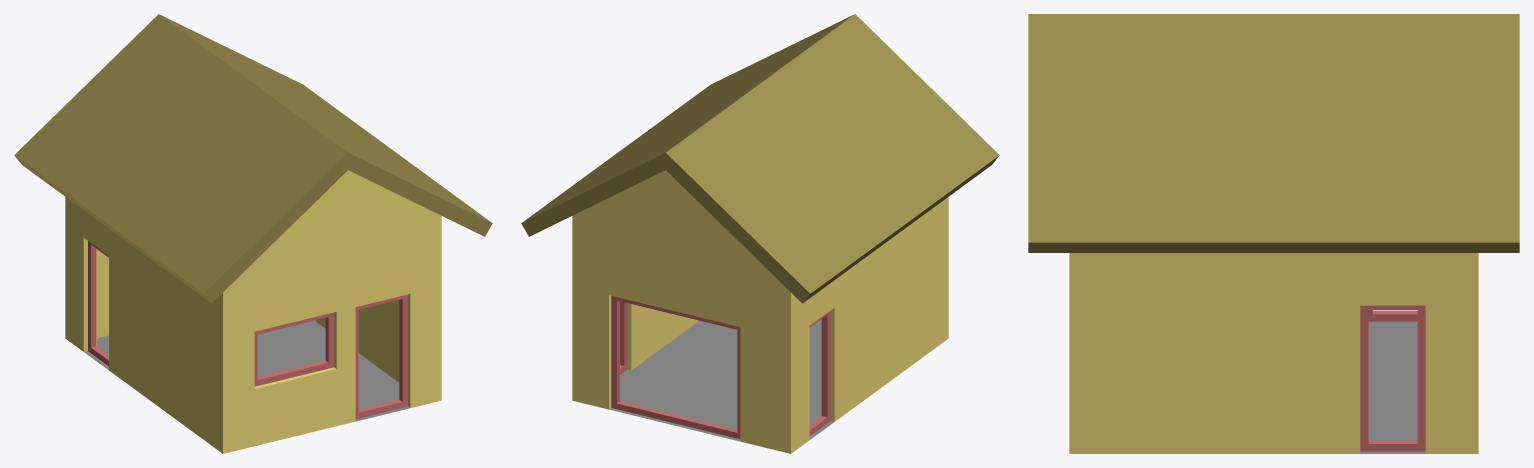
Rendered from result.glb.
3 views of the same model, side by side, from view 1: azimuth 30°, elevation 25°; view 2: azimuth 150°, elevation 25°; view 3: azimuth 270°, elevation 25° (orthographic). The views are drawn at different scales.
Visible parts, largest first — view 1: 2499a4e7-243e-4563-b6c1-ed26f3a98a3a__undefined, 1ef0c851-08d2-4ab4-b3e1-274aac94b57e__undefined (×2), e75f428d-a81e-416e-aa68-c2f7c63bd56b__Plane_6, cf446bc5-4601-47e0-9e80-296ae3b57e2c__Box, 2e7a3f53-5e66-4871-9fd2-a7b030fb69ea__Box_3, dd3370f2-8681-41a8-b030-807a1a562c57__Box_12; view 2: 1ef0c851-08d2-4ab4-b3e1-274aac94b57e__undefined (×2), 2499a4e7-243e-4563-b6c1-ed26f3a98a3a__undefined, e75f428d-a81e-416e-aa68-c2f7c63bd56b__Plane_6, 803d696c-2b38-4fbc-b807-a528d0ccb599__Box_9, dd3370f2-8681-41a8-b030-807a1a562c57__Box_12, 36044ab9-4f18-4605-b6d6-bb1f6436501b__Box_15; view 3: 1ef0c851-08d2-4ab4-b3e1-274aac94b57e__undefined, 2499a4e7-243e-4563-b6c1-ed26f3a98a3a__undefined, e75f428d-a81e-416e-aa68-c2f7c63bd56b__Plane_6, 36044ab9-4f18-4605-b6d6-bb1f6436501b__Box_15, dd3370f2-8681-41a8-b030-807a1a562c57__Box_12.
Boxes of the visible parts, box(x1,y1,x2,y2) form: 2499a4e7-243e-4563-b6c1-ed26f3a98a3a__undefined: box(65, 170, 441, 453); 1ef0c851-08d2-4ab4-b3e1-274aac94b57e__undefined (×2): box(14, 14, 492, 303); e75f428d-a81e-416e-aa68-c2f7c63bd56b__Plane_6: box(84, 320, 409, 421); cf446bc5-4601-47e0-9e80-296ae3b57e2c__Box: box(355, 294, 407, 418); 2e7a3f53-5e66-4871-9fd2-a7b030fb69ea__Box_3: box(254, 312, 334, 386); dd3370f2-8681-41a8-b030-807a1a562c57__Box_12: box(88, 241, 108, 365); 1ef0c851-08d2-4ab4-b3e1-274aac94b57e__undefined (×2): box(521, 14, 999, 303); 2499a4e7-243e-4563-b6c1-ed26f3a98a3a__undefined: box(572, 170, 948, 453); e75f428d-a81e-416e-aa68-c2f7c63bd56b__Plane_6: box(609, 319, 834, 441); 803d696c-2b38-4fbc-b807-a528d0ccb599__Box_9: box(611, 295, 740, 438); dd3370f2-8681-41a8-b030-807a1a562c57__Box_12: box(809, 310, 830, 435); 36044ab9-4f18-4605-b6d6-bb1f6436501b__Box_15: box(620, 301, 627, 374); 1ef0c851-08d2-4ab4-b3e1-274aac94b57e__undefined: box(1028, 14, 1519, 252); 2499a4e7-243e-4563-b6c1-ed26f3a98a3a__undefined: box(1069, 253, 1478, 453); e75f428d-a81e-416e-aa68-c2f7c63bd56b__Plane_6: box(1360, 321, 1425, 453); 36044ab9-4f18-4605-b6d6-bb1f6436501b__Box_15: box(1360, 305, 1425, 451); dd3370f2-8681-41a8-b030-807a1a562c57__Box_12: box(1368, 310, 1417, 321).
Bounding box in the file's own units: 529 × 500 × 600.
